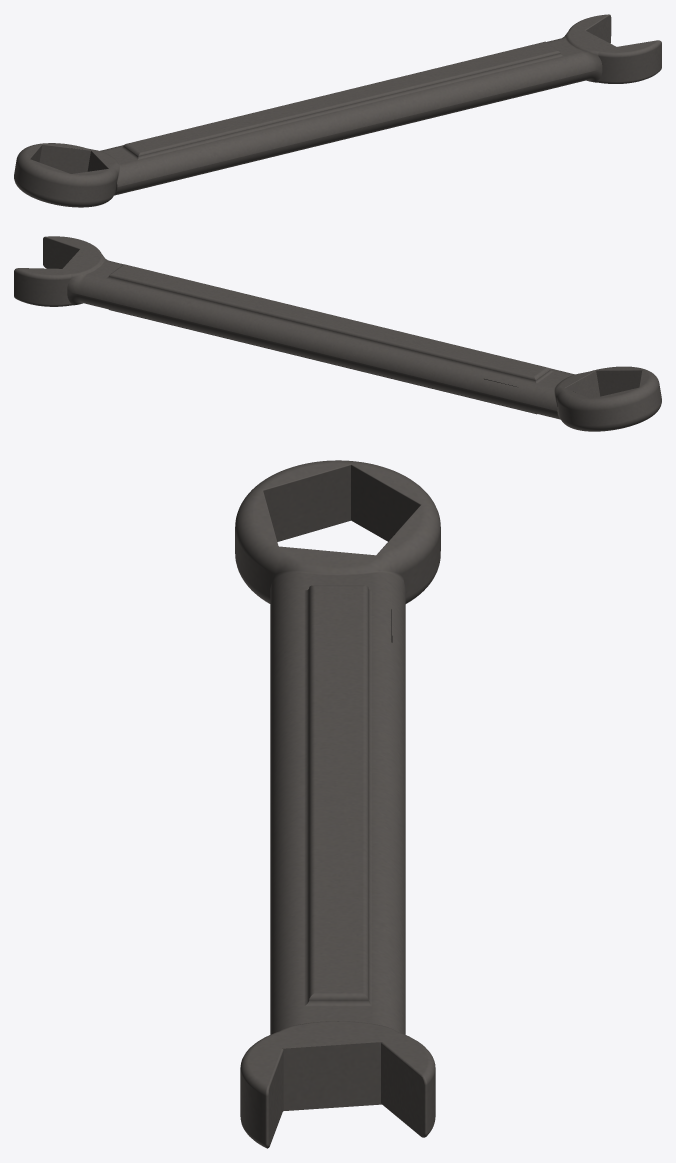
The model's file is wrench.glb.
The picture shows the model from 3 angles, top to bottom: view 1: azimuth 30°, elevation 25°; view 2: azimuth 150°, elevation 25°; view 3: azimuth 270°, elevation 25°; orthographic projection. The views are drawn at different scales.
Bounding box in the file's own units: 0.146 × 0.0108 × 0.0209.
1 material, 1 textured.
